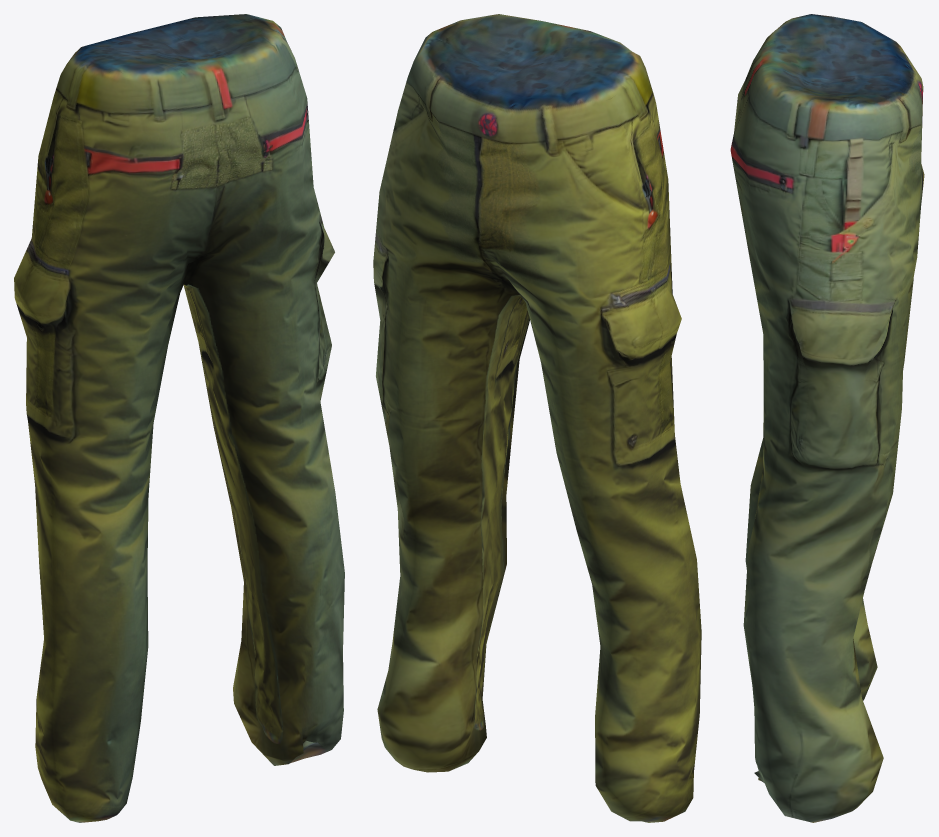
Rendered from GreenChino.fbx.
3 renders of one model, left to right at view 1: azimuth 30°, elevation 25°; view 2: azimuth 150°, elevation 25°; view 3: azimuth 270°, elevation 25°, orthographic. The views are drawn at different scales.
Visible parts, largest first — view 1: Mesh0; view 2: Mesh0; view 3: Mesh0.
Boxes of the visible parts, x1,y1,x2,y2 form: Mesh0: (14, 14, 344, 822); Mesh0: (373, 14, 701, 822); Mesh0: (730, 14, 924, 822).
Size of the model in its own units: 0.4356 by 0.2571 by 1.05.
1 material, 1 textured.
